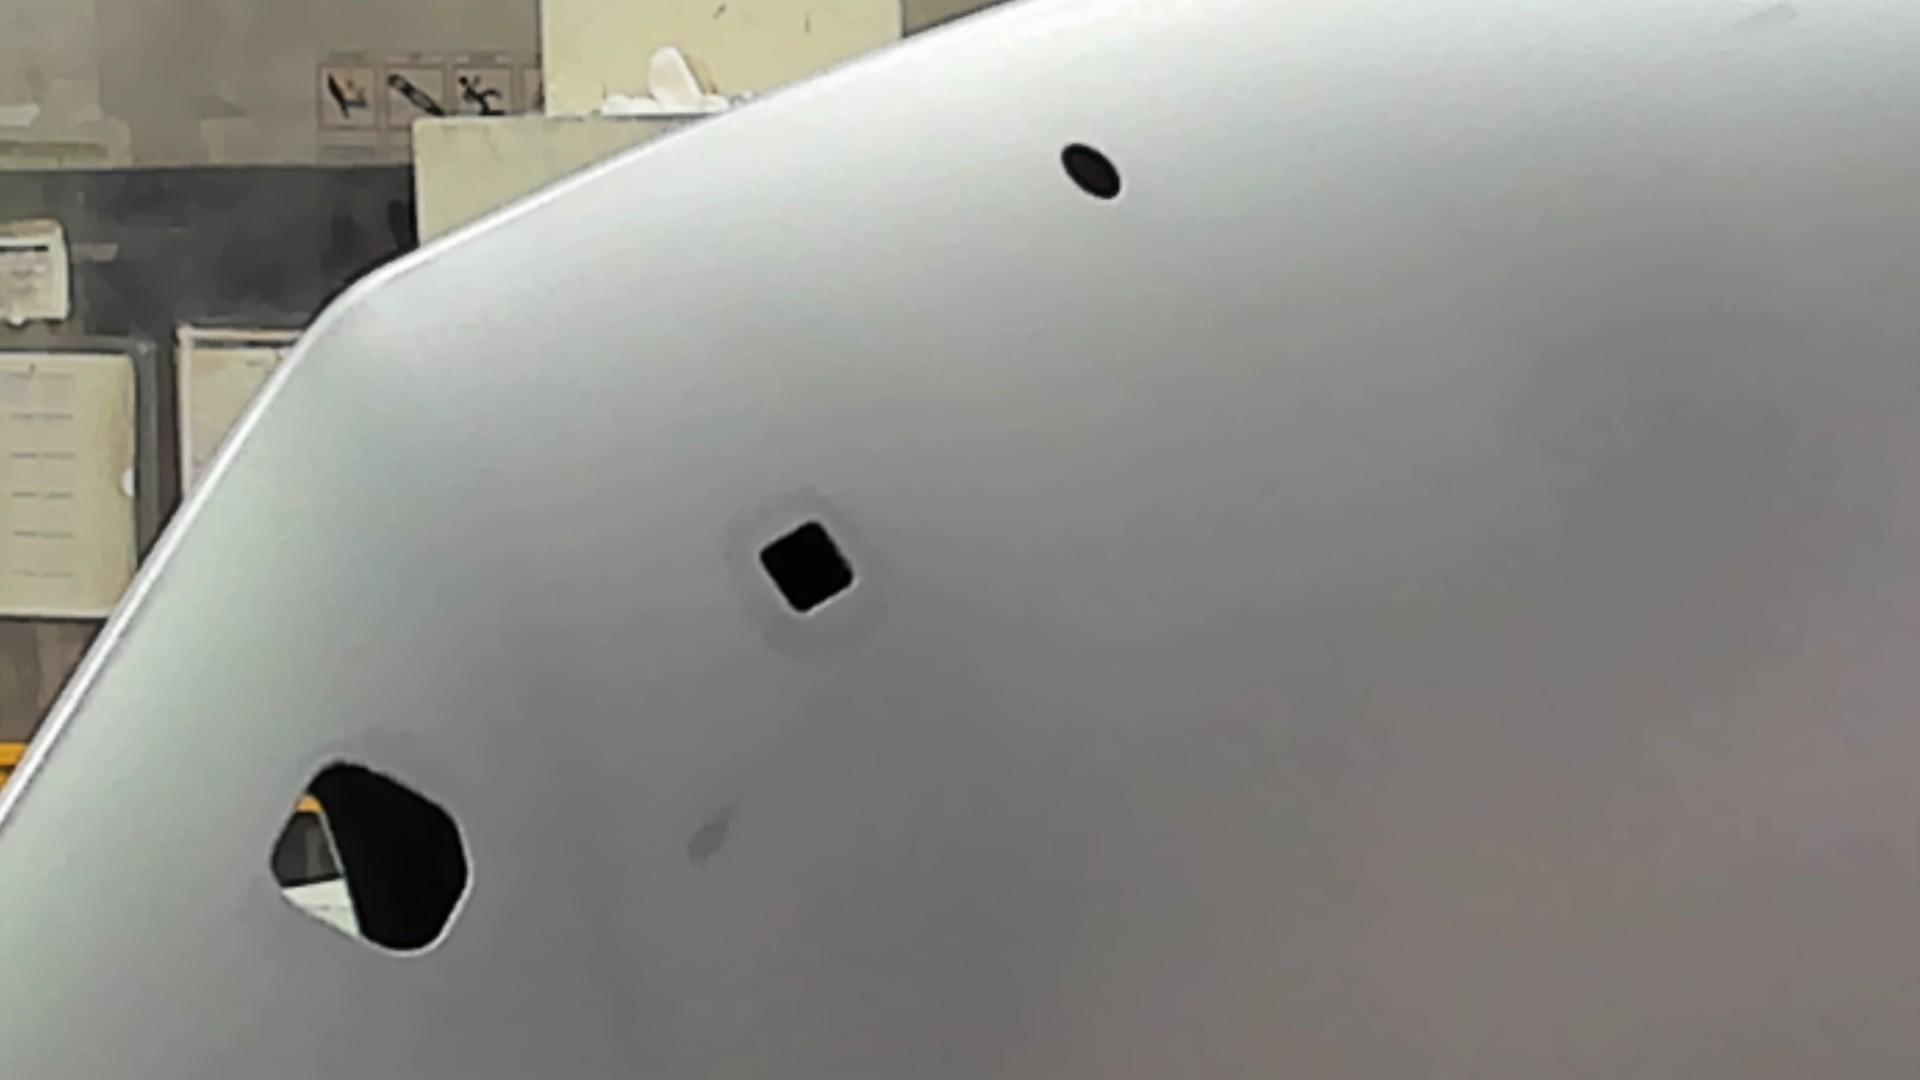chico: (1058, 138, 1125, 204)
grande: (269, 760, 477, 964)
mediano: (756, 513, 862, 624)
